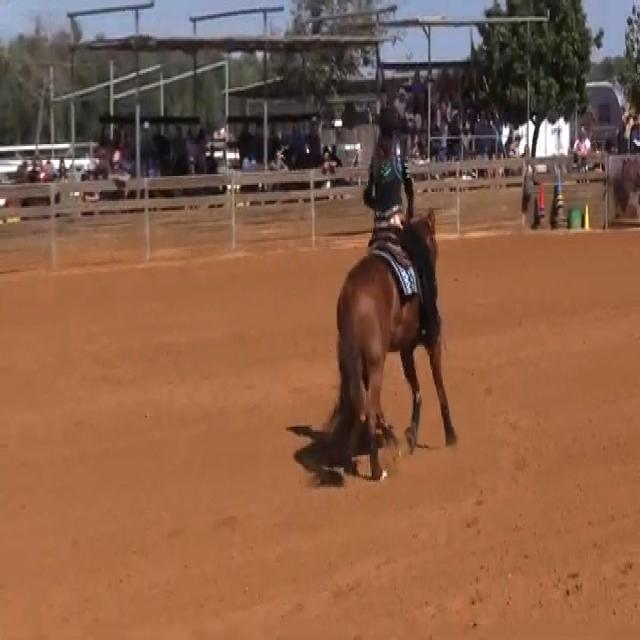horse: (332, 204, 459, 478)
